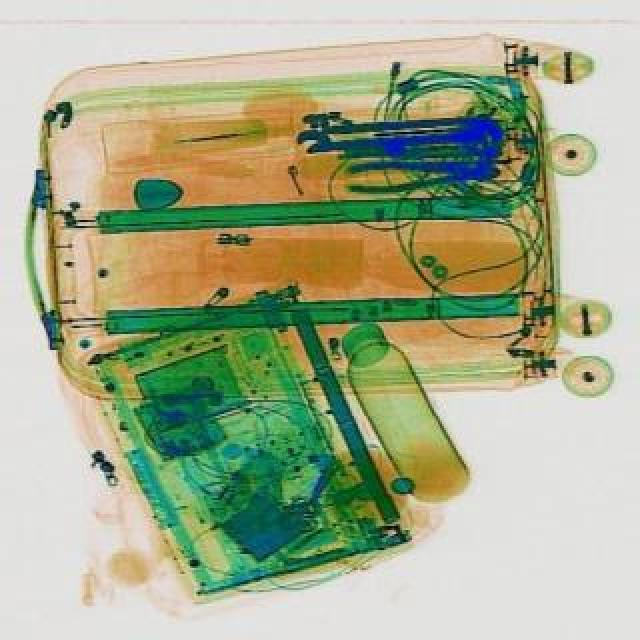scissors: (296, 120, 500, 154)
wrench: (344, 156, 500, 192)
